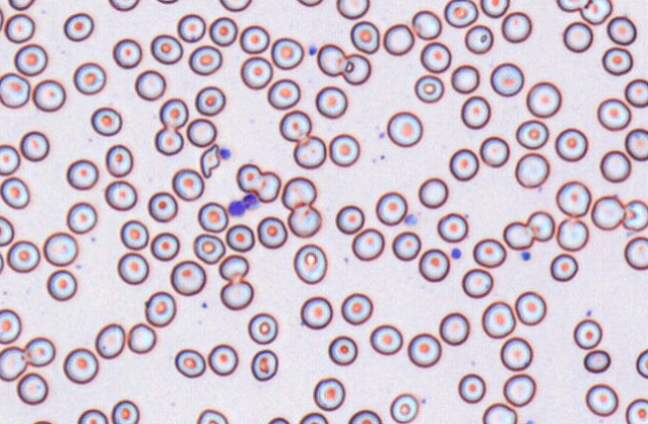PLT: (241, 192, 261, 211), (227, 200, 245, 217), (404, 213, 419, 226), (450, 248, 465, 261), (219, 147, 231, 161), (519, 251, 530, 262), (308, 44, 317, 56), (524, 419, 537, 424)
RBC: (293, 243, 327, 284), (555, 180, 591, 217), (62, 347, 98, 384), (386, 110, 422, 147), (170, 259, 206, 295), (526, 81, 561, 118), (481, 300, 515, 338), (514, 152, 549, 188), (43, 231, 78, 266), (591, 194, 625, 230), (281, 176, 316, 210), (407, 332, 441, 367), (144, 290, 176, 327), (554, 127, 588, 161), (490, 62, 524, 96), (32, 78, 66, 112), (72, 61, 106, 95), (596, 97, 631, 130), (287, 204, 321, 237), (312, 377, 345, 411), (293, 135, 326, 169), (13, 43, 47, 76), (6, 239, 40, 272), (500, 336, 532, 371), (514, 290, 546, 325), (94, 322, 125, 358), (502, 373, 535, 406), (351, 227, 384, 260), (171, 168, 204, 201), (585, 383, 618, 416), (240, 56, 273, 89), (219, 278, 253, 310), (556, 217, 588, 251), (300, 295, 332, 329), (375, 191, 407, 225), (270, 37, 304, 69), (0, 72, 30, 108), (16, 372, 48, 405), (279, 109, 311, 142), (117, 252, 149, 285), (340, 292, 372, 325), (599, 149, 631, 182), (315, 85, 347, 118), (418, 248, 449, 282), (472, 237, 506, 268), (369, 324, 403, 355), (188, 44, 222, 75), (328, 133, 359, 167), (66, 158, 98, 190), (382, 23, 414, 55), (192, 233, 225, 264), (104, 180, 137, 211), (438, 312, 469, 345), (256, 215, 287, 248), (207, 343, 238, 376), (150, 33, 183, 64), (267, 78, 300, 109), (460, 95, 490, 129), (66, 201, 97, 233), (46, 269, 77, 301), (420, 41, 451, 73), (134, 69, 166, 100), (316, 43, 346, 76), (515, 119, 548, 149), (448, 148, 478, 181), (0, 345, 27, 381), (197, 201, 228, 232), (147, 191, 178, 222), (562, 21, 593, 52), (194, 85, 225, 116), (461, 268, 493, 298), (23, 336, 55, 366), (436, 212, 468, 242), (247, 312, 277, 344), (479, 135, 509, 167), (501, 11, 531, 43), (90, 106, 122, 136), (0, 176, 29, 209), (350, 20, 379, 53), (105, 143, 133, 177), (443, 0, 478, 27), (119, 219, 149, 250), (186, 117, 217, 147), (418, 177, 448, 208), (174, 348, 205, 378), (411, 9, 441, 40), (19, 130, 49, 161), (4, 13, 35, 43), (606, 15, 637, 45), (601, 46, 633, 75), (250, 348, 278, 381), (391, 230, 421, 260), (327, 335, 357, 365), (239, 24, 269, 54), (112, 38, 142, 68), (502, 221, 533, 250), (526, 210, 555, 241), (159, 97, 188, 128), (127, 322, 156, 353), (573, 318, 602, 349), (389, 392, 418, 423), (63, 12, 94, 41), (154, 125, 183, 155), (335, 204, 364, 234), (150, 231, 179, 261), (464, 24, 493, 54), (414, 74, 444, 103), (208, 16, 237, 46), (218, 253, 249, 281), (225, 223, 254, 252), (450, 64, 479, 93), (457, 373, 485, 403), (549, 253, 578, 281), (177, 13, 205, 42), (624, 235, 647, 270), (256, 170, 281, 202), (580, 0, 612, 25), (624, 127, 647, 161), (236, 163, 262, 192), (482, 402, 517, 423), (0, 308, 21, 343), (110, 399, 139, 424), (624, 78, 647, 107), (583, 349, 610, 373), (0, 143, 20, 175), (336, 0, 369, 19), (625, 397, 647, 423), (480, 0, 509, 18), (76, 408, 108, 424), (347, 409, 382, 423), (196, 408, 228, 423), (0, 215, 14, 246), (218, 0, 252, 12), (556, 0, 589, 12), (298, 411, 328, 424), (635, 348, 647, 378), (108, 0, 139, 11), (8, 0, 35, 10), (266, 416, 291, 424), (296, 0, 323, 7), (30, 419, 55, 424), (0, 249, 4, 275), (0, 7, 4, 32), (155, 0, 179, 4)
Schistocyte: (343, 55, 374, 84), (625, 199, 648, 231), (200, 144, 221, 179)
